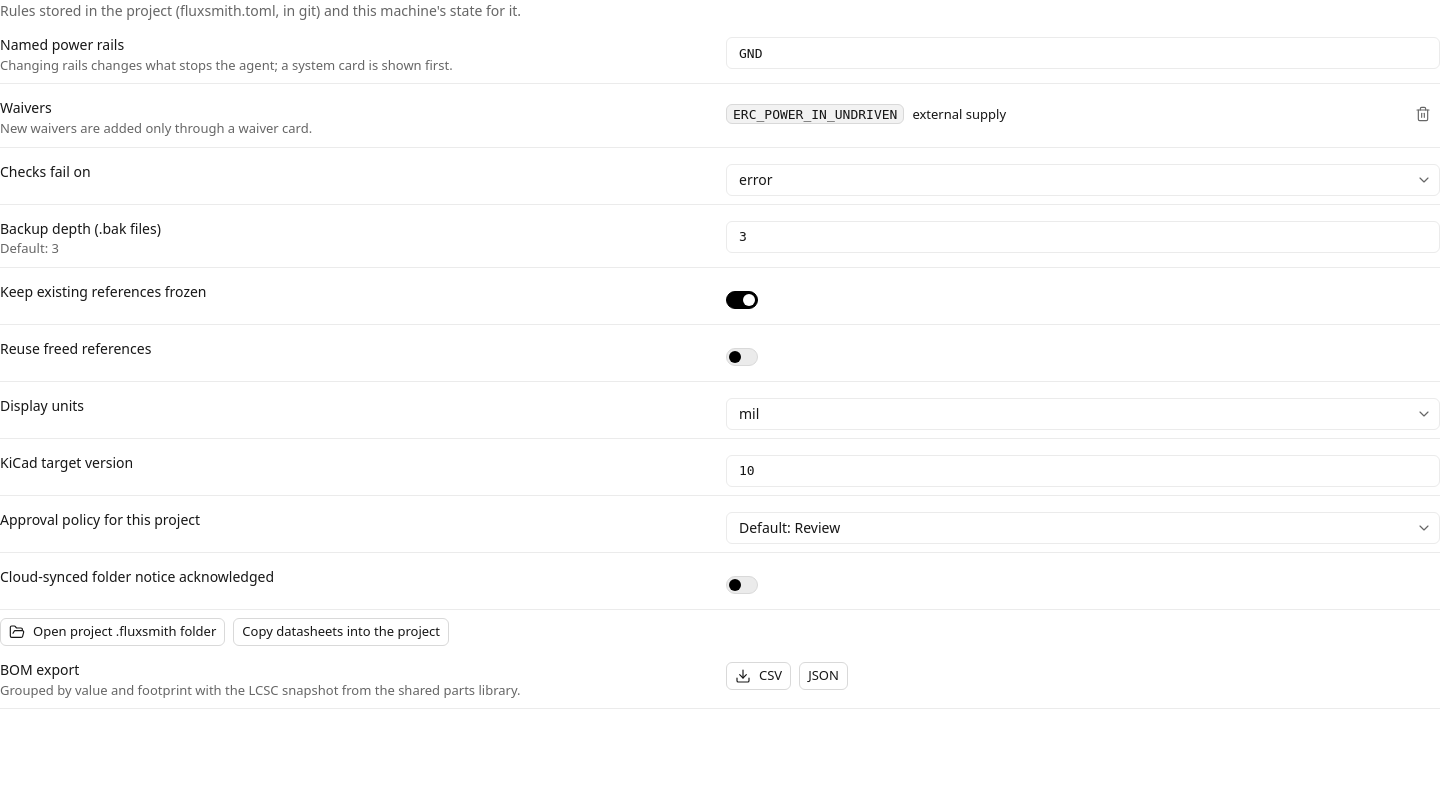
it: project settings tab › a refused guarded write is reported under its row too
The width and height of the screenshot is (1440, 810).
Click the button named "Remove": (1423, 114) 1406,100 -> 1439,128
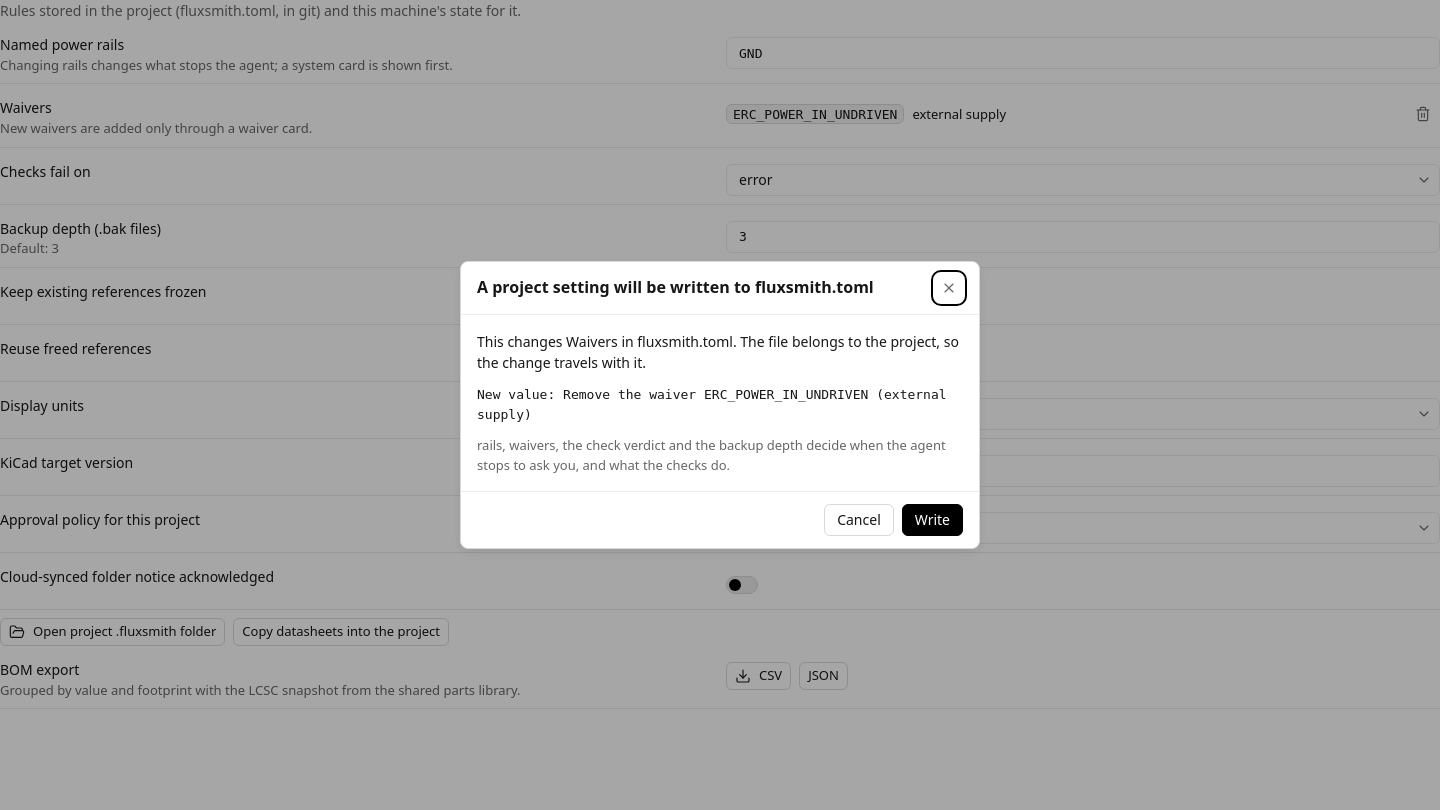
Click the button with class "btn-consent": (932, 520) 902,504 -> 963,536
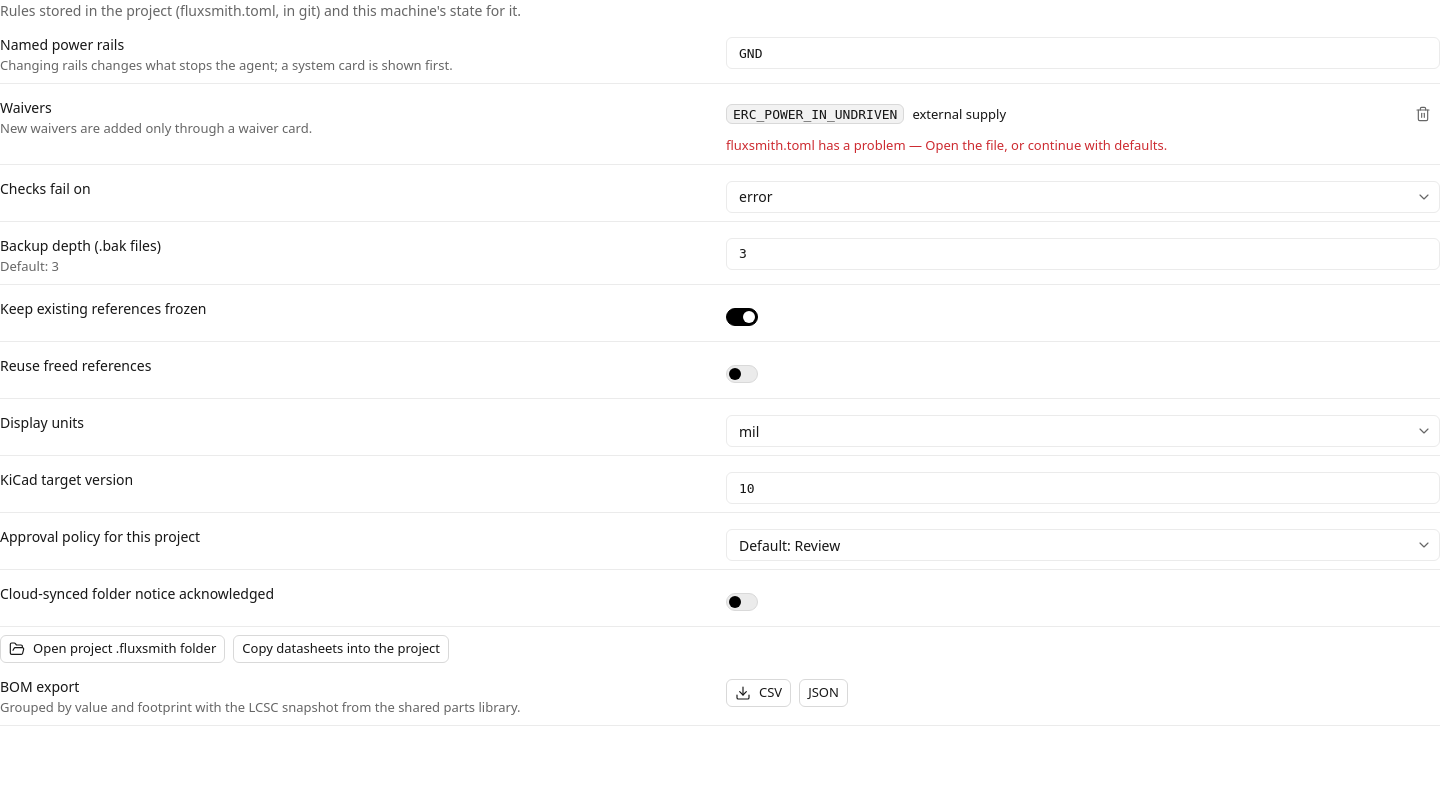
Expected: the element with class "field-error" does not show ""
Expected: the dialog is gone
